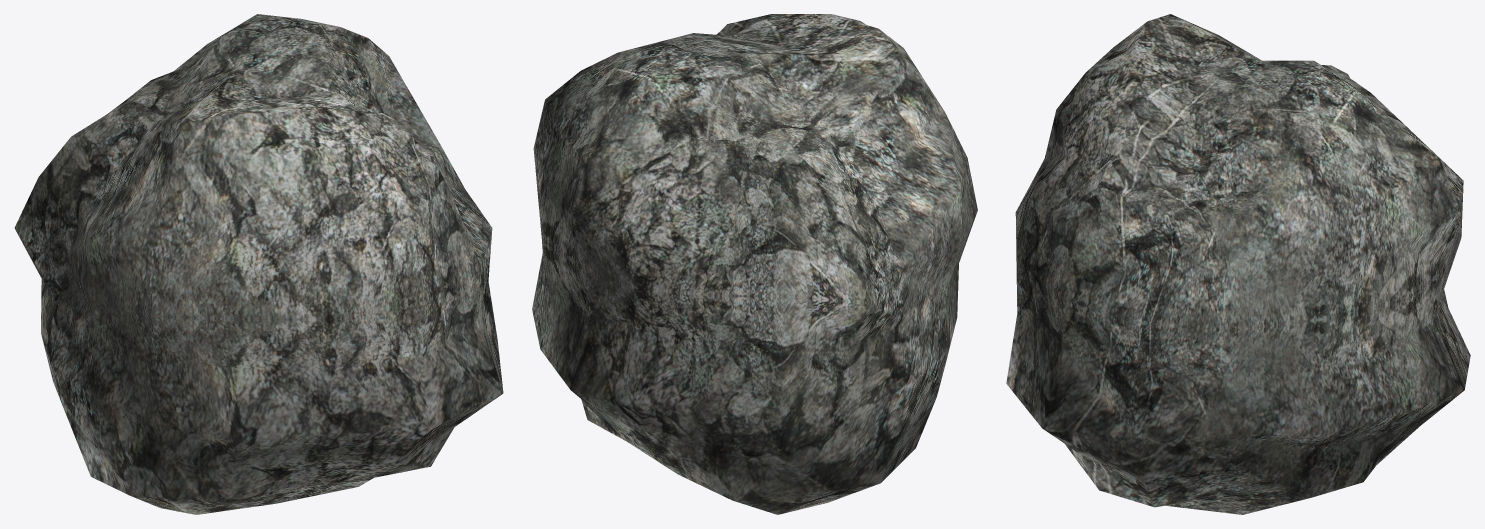
The model's file is rocks02_icy.DAE.
The picture shows the model from 3 angles, left to right: view 1: azimuth 30°, elevation 25°; view 2: azimuth 150°, elevation 25°; view 3: azimuth 270°, elevation 25°; orthographic projection. The views are drawn at different scales.
Visible parts, largest first — view 1: Box003; view 2: Box003; view 3: Box003.
Part boxes in pixels (<box>): Box003: <box>14,14,503,514</box>; Box003: <box>532,14,977,514</box>; Box003: <box>1006,14,1470,514</box>.
Size of the model in its own units: 0.0174 by 0.0188 by 0.0178.
